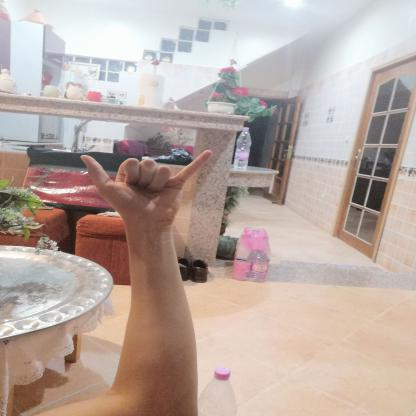YA: (67, 142, 226, 234)
